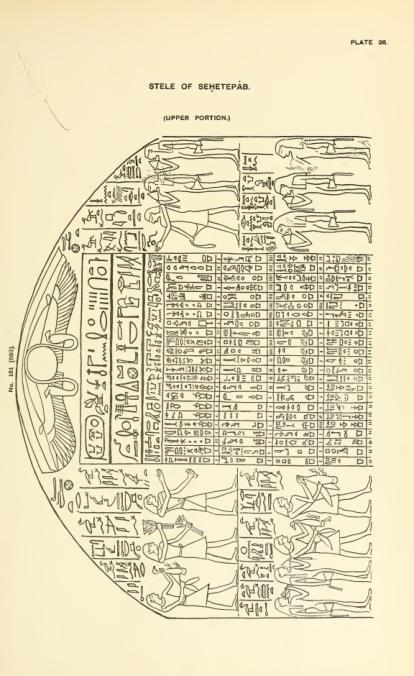circle: (83, 414, 108, 461)
